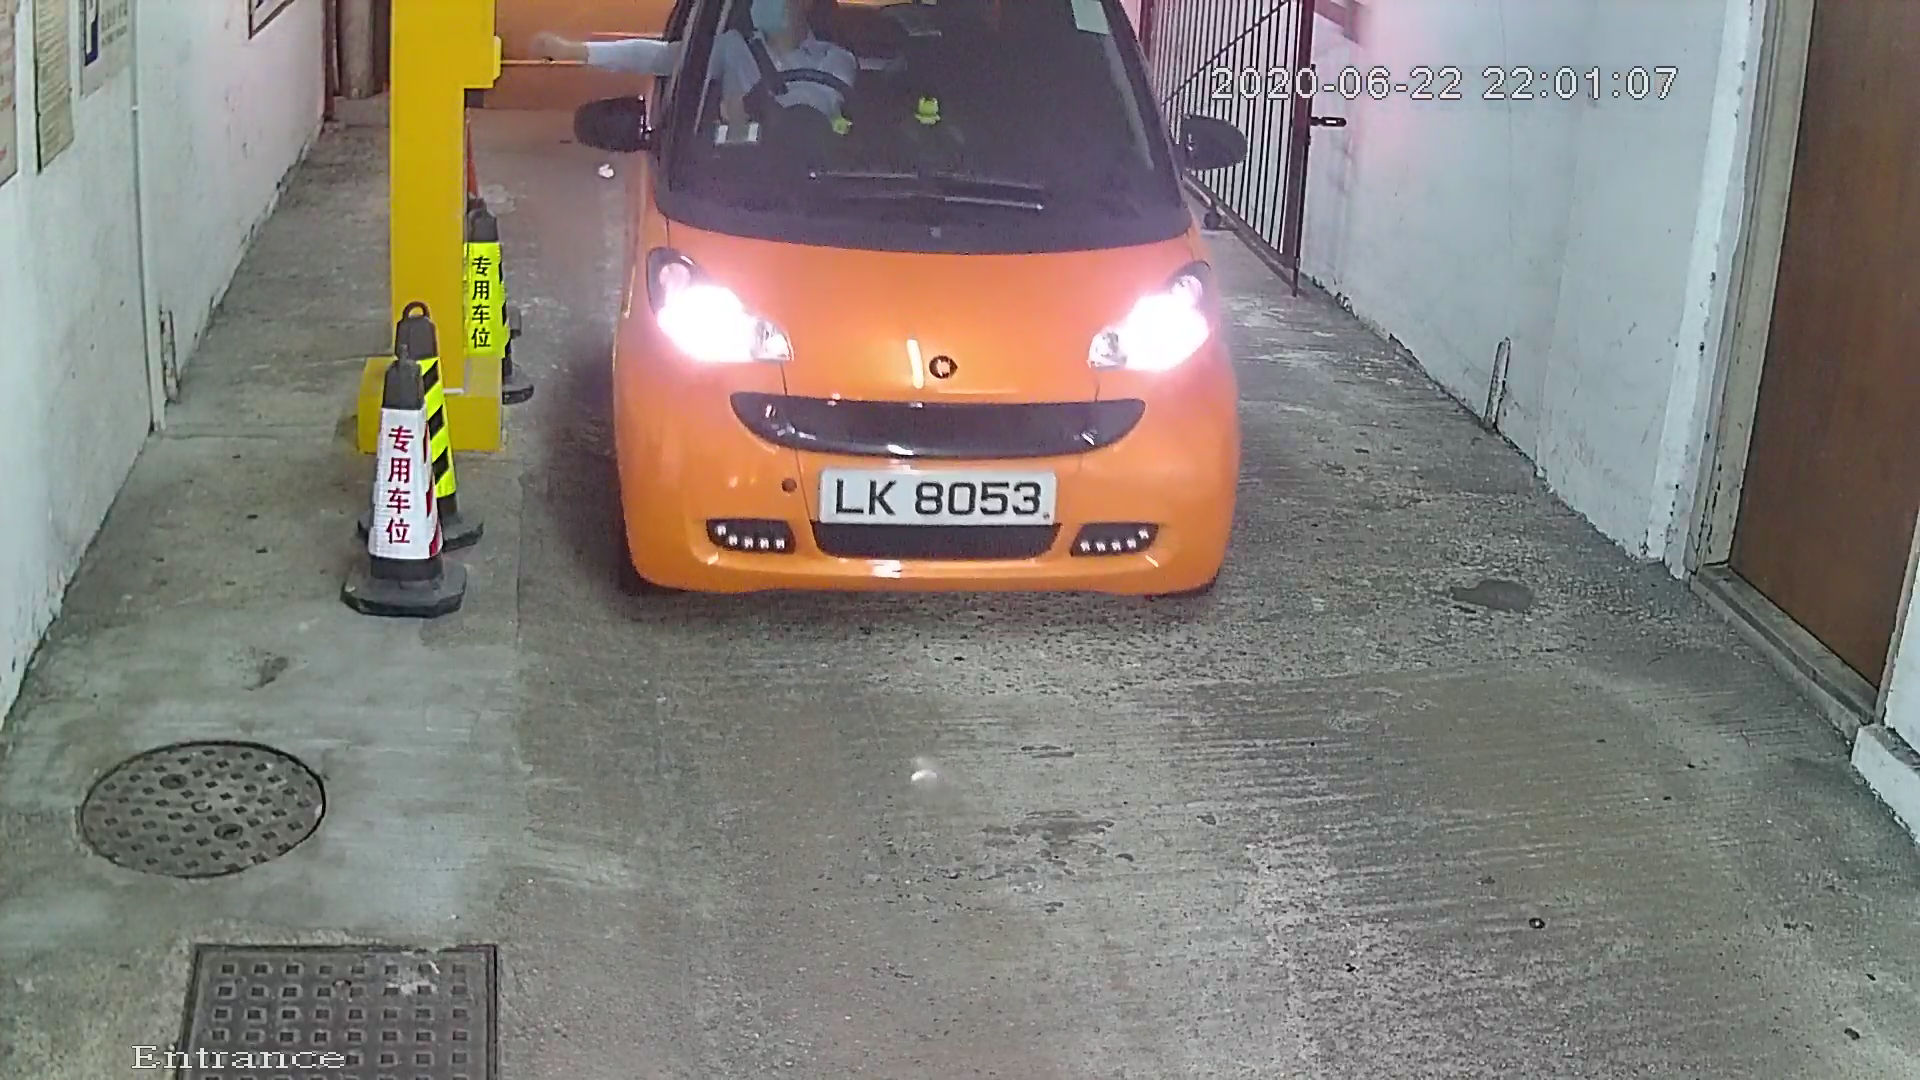privatecar: (585, 3, 1279, 630)
